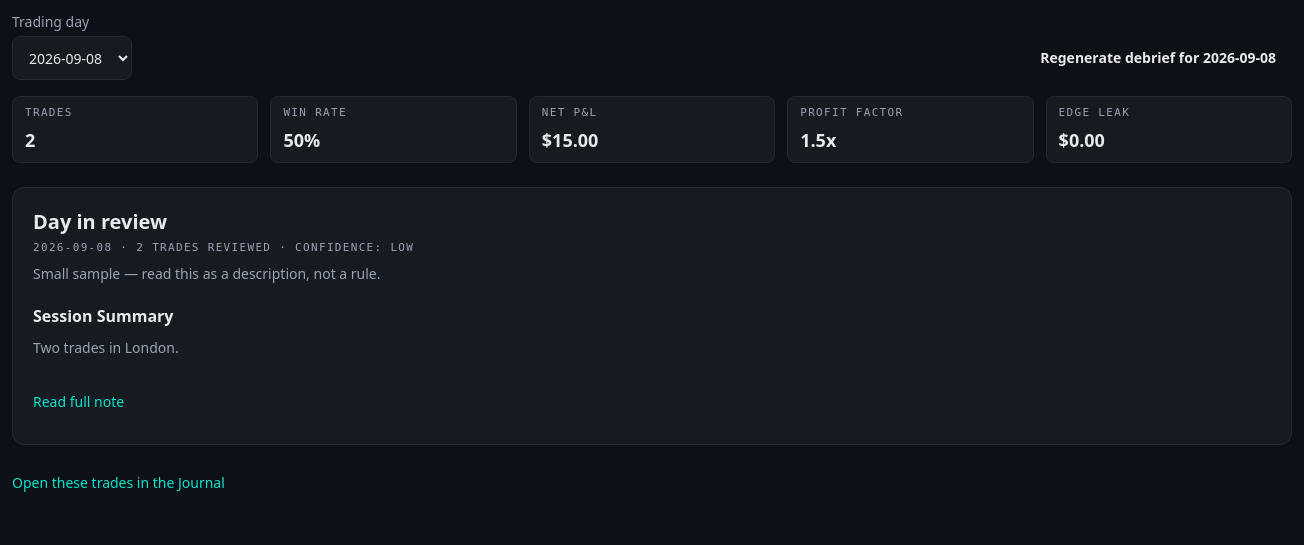
it: DailyLens › keeps the saved debrief on screen after a failed regeneration
expect the text "Two trades in London." is shown: met, box x1=33 y1=338 x2=179 y2=357
Click the button "Regenerate debrief for 2026-09-08". click: point(1158, 58)
box: x1=1024 y1=36 x2=1292 y2=80
Wait 1000 ms
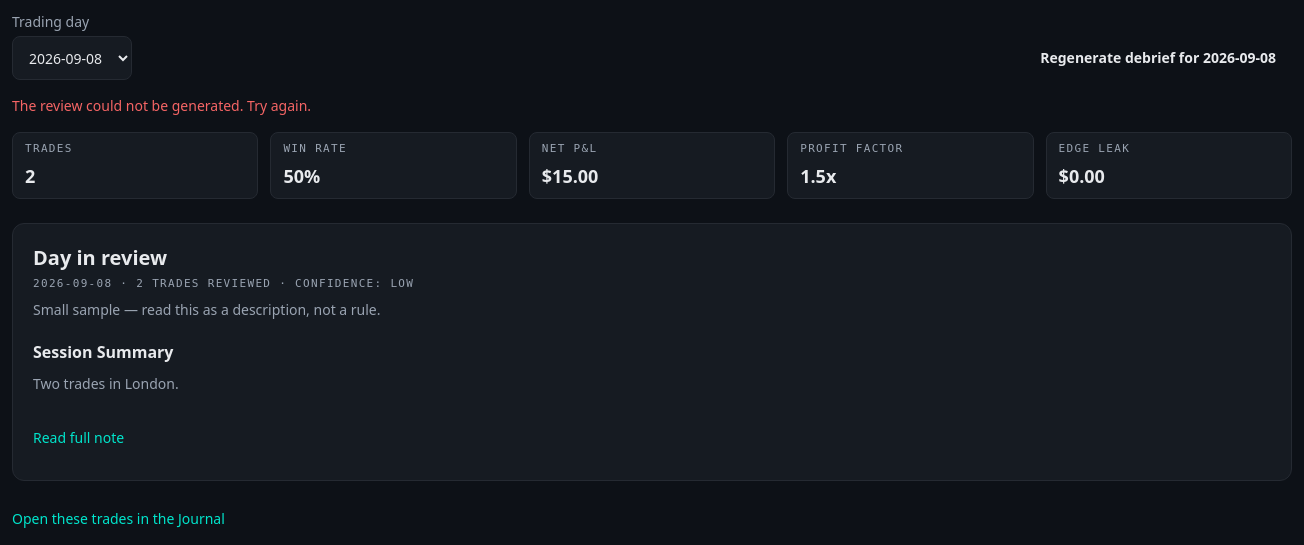
expect the text "Two trades in London." is shown: met, box x1=33 y1=374 x2=179 y2=393
expect the message reads "The review could not be generated. Try again.": met, box x1=12 y1=96 x2=311 y2=115
